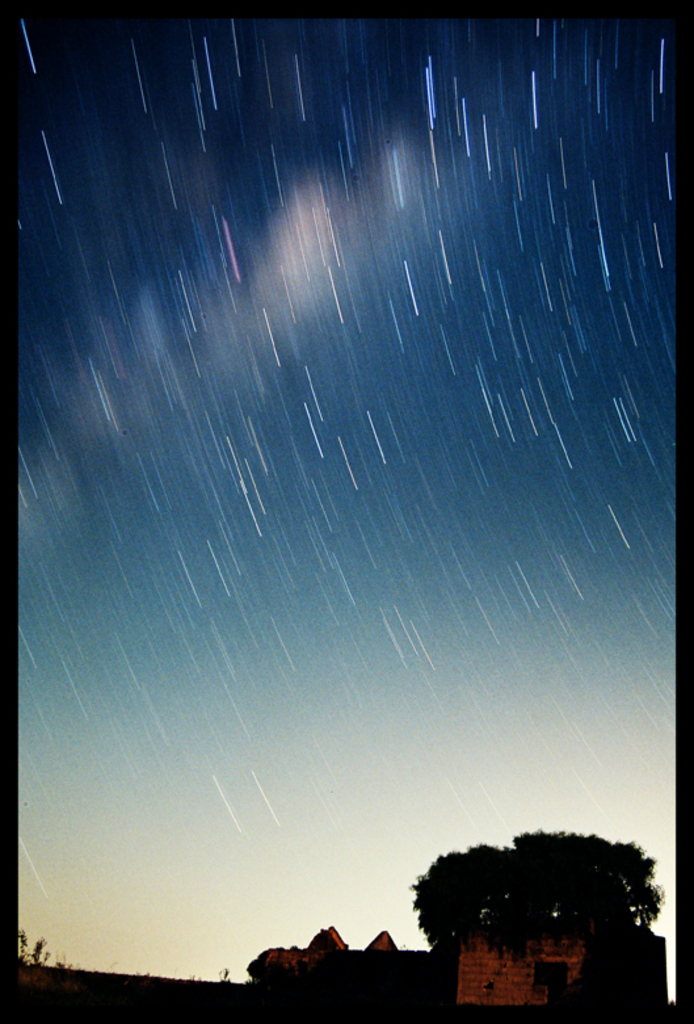Tree: (396, 829, 671, 995)
